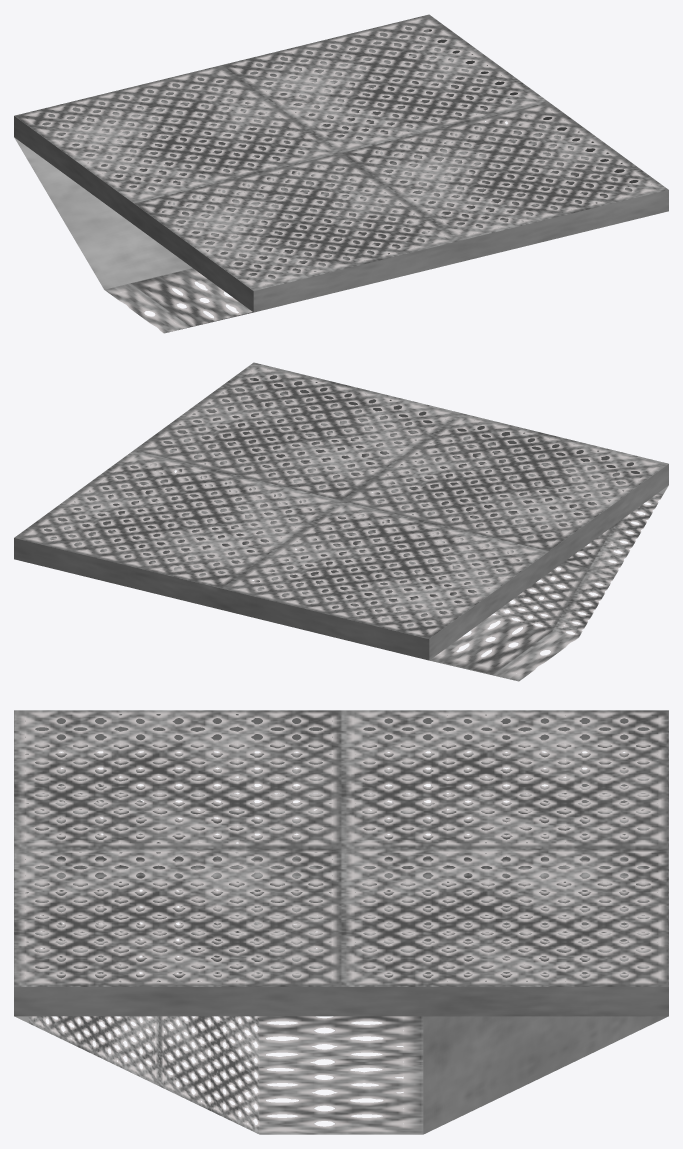
File: Catwalk.fbx
3 renders of one model, top to bottom at view 1: azimuth 30°, elevation 25°; view 2: azimuth 150°, elevation 25°; view 3: azimuth 270°, elevation 25°, orthographic. The views are drawn at different scales.
Visible parts, largest first — view 1: Top, Bottom; view 2: Top, Bottom; view 3: Top, Bottom.
Part boxes in pixels (x1,y1,x2,y2): Top: (14, 14, 668, 312); Bottom: (14, 105, 481, 333); Top: (14, 362, 668, 660); Bottom: (200, 443, 668, 681); Top: (14, 710, 668, 1016); Bottom: (14, 768, 668, 1134).
Size of the model in its own units: 8.01 by 1.99 by 8.01.
